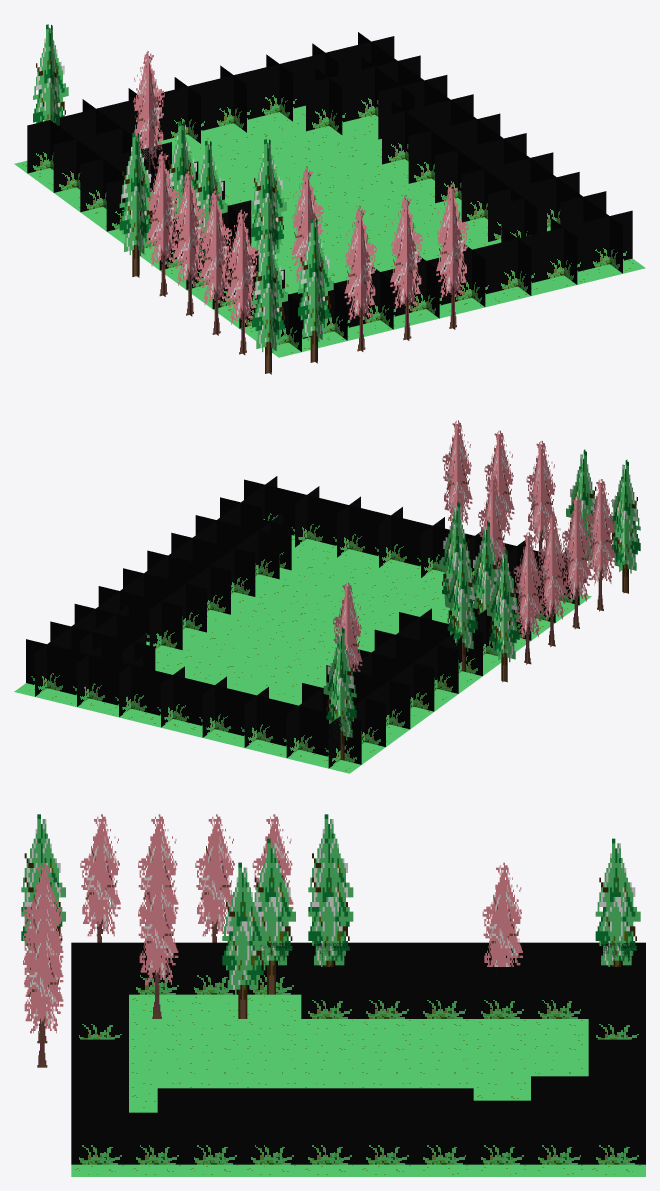
The model's file is BlockTile_1781991430.glb.
The picture shows the model from 3 angles, top to bottom: view 1: azimuth 30°, elevation 25°; view 2: azimuth 150°, elevation 25°; view 3: azimuth 270°, elevation 25°; orthographic projection. The views are drawn at different scales.
Visible parts, largest first — view 1: loose, group_4EDB1E70, group_E4514E15, group_E43683E4, group_87F28296, group_7C3EE4CF, group_FE9970FC, group_27B03171, group_6E913671, group_6C17BF0F, group_4927A166, group_905F18E0 (+44 smaller); view 2: loose, group_E43683E4, group_E4514E15, group_3CF487F3, group_65002008, group_4927A166, group_6C17BF0F, group_7C3EE4CF, group_27B03171, group_9ED394FF, group_44988710, group_4A8D0CA5 (+46 smaller); view 3: loose, group_905F18E0, group_65002008, group_3CF487F3, group_711D7FB3, group_6E913671, group_23B3855D, group_4927A166, group_B52BC53C, group_C197CD28, group_4253EEBA, group_5EF48942 (+49 smaller).
Part boxes in pixels (x1,y1,x2,y2): loose: (14, 105, 645, 357); group_4EDB1E70: (298, 218, 333, 363); group_E4514E15: (252, 229, 287, 374); group_E43683E4: (119, 132, 152, 277); group_87F28296: (344, 206, 376, 351); group_7C3EE4CF: (199, 189, 231, 335); group_FE9970FC: (390, 195, 422, 340); group_27B03171: (146, 151, 178, 296); group_6E913671: (436, 184, 468, 329); group_6C17BF0F: (173, 170, 205, 316); group_4927A166: (226, 209, 258, 354); group_905F18E0: (251, 139, 286, 257); loose: (14, 535, 591, 773); group_E43683E4: (487, 548, 519, 682); group_E4514E15: (610, 459, 640, 593); group_3CF487F3: (445, 538, 477, 671); group_65002008: (323, 627, 356, 760); group_4927A166: (586, 479, 615, 611); group_6C17BF0F: (538, 514, 567, 646); group_7C3EE4CF: (562, 496, 591, 628); group_27B03171: (513, 532, 543, 664); group_9ED394FF: (26, 635, 67, 696); group_44988710: (194, 676, 235, 737); group_4A8D0CA5: (278, 697, 319, 757); loose: (71, 994, 645, 1176); group_905F18E0: (222, 862, 266, 1018); group_65002008: (595, 838, 640, 966); group_3CF487F3: (308, 838, 353, 966); group_711D7FB3: (254, 838, 295, 994); group_6E913671: (23, 911, 63, 1067); group_23B3855D: (138, 862, 178, 1018); group_4927A166: (80, 814, 120, 942); group_B52BC53C: (243, 1112, 301, 1164); group_C197CD28: (358, 1112, 416, 1164); group_4253EEBA: (186, 1112, 243, 1164); group_5EF48942: (71, 1112, 128, 1164).
Bounding box in the file's own units: 9 × 3 × 11.
Materials: 4 (4 with a texture image).
